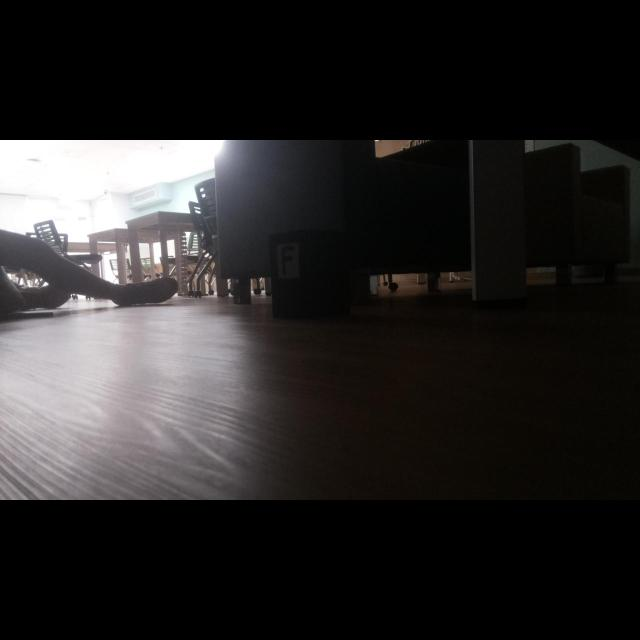F: (281, 246, 294, 275)
